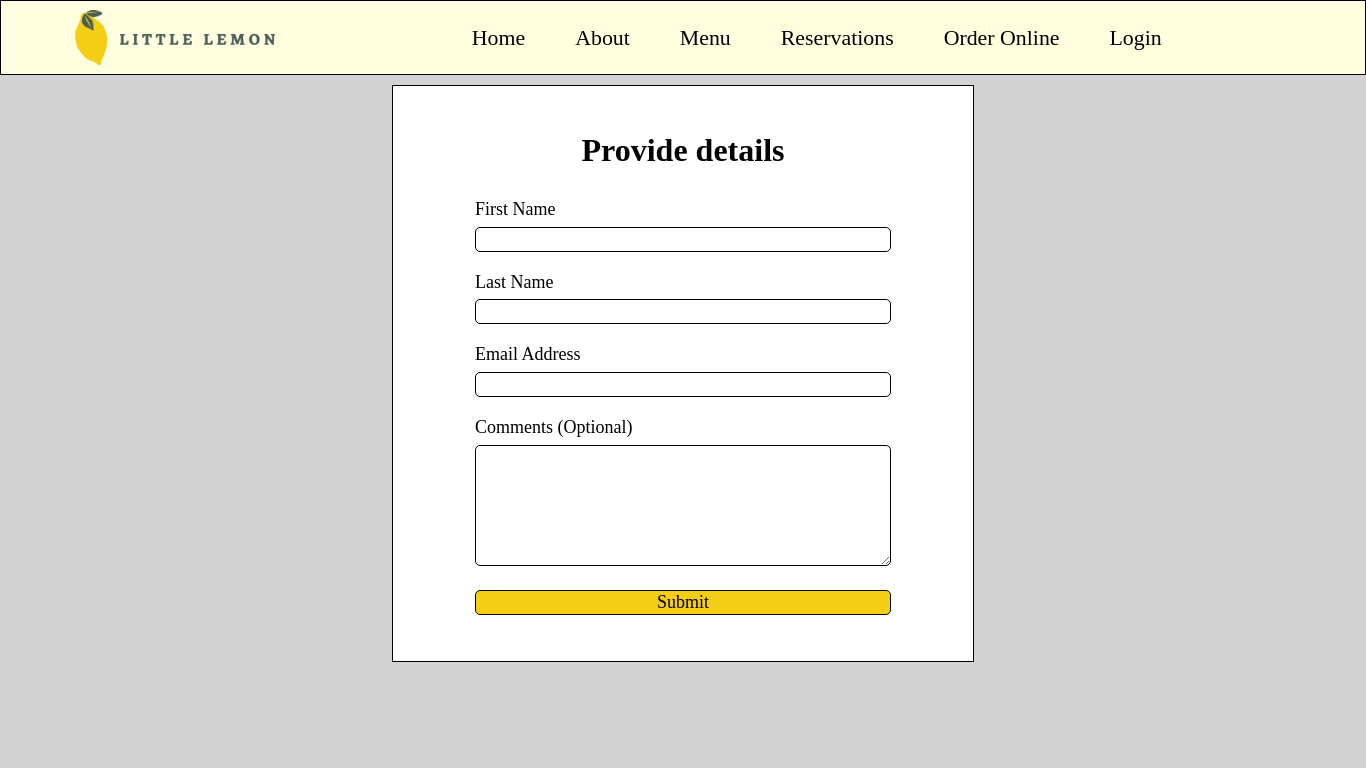
Scenario: Form Submission › Form cannot be submitted if the first name is not provided
The width and height of the screenshot is (1366, 768).
// Leave the first name field empty and fill in other fields
In the field labelled "Last Name": {"x": 683, "y": 312} [475,299,891,324], type "Henry"
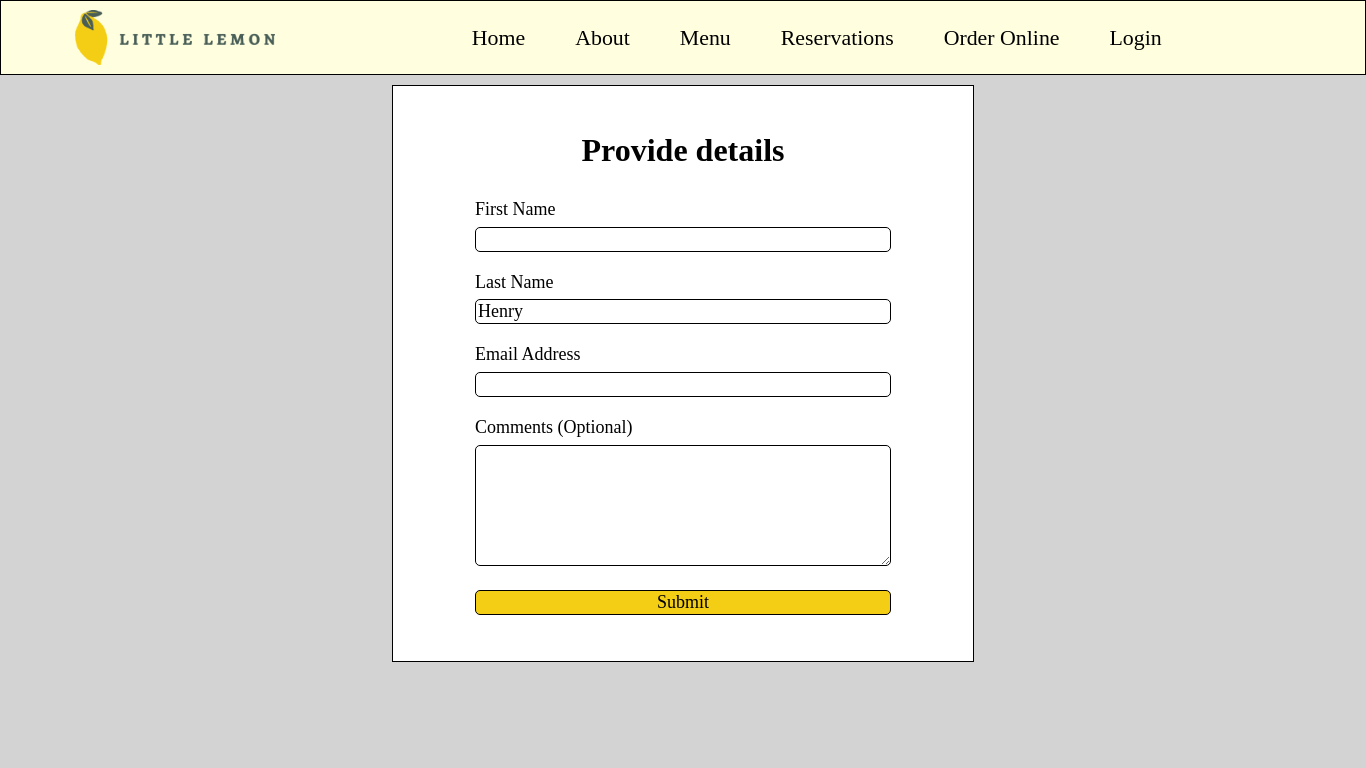
In the field labelled "Email Address": {"x": 683, "y": 385} [475,372,891,397], type "john_henry@gmail.com"
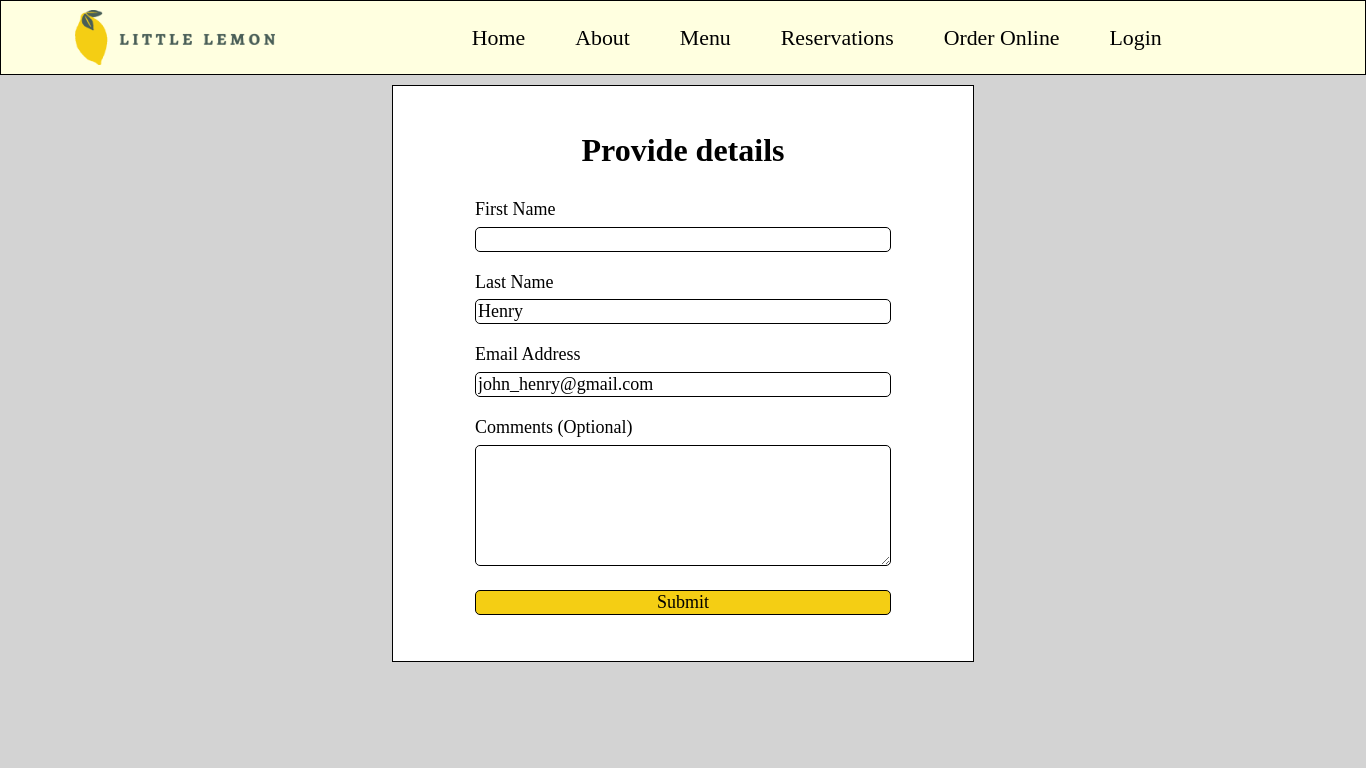
In the text box labelled "Comments (Optional)": {"x": 683, "y": 506} [475,445,891,566], type "This is a comment"
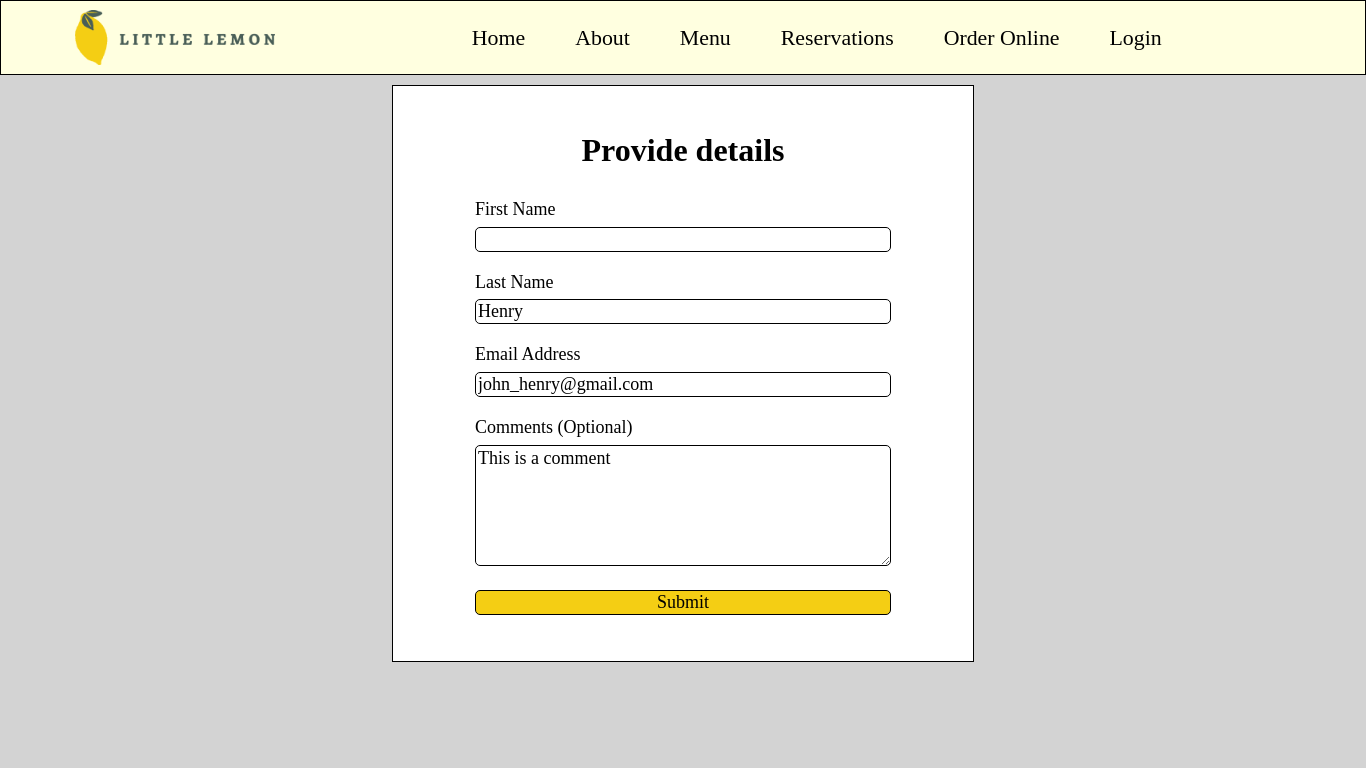
// Attempt to submit the form
Click the button "Submit": {"x": 683, "y": 603} [475,590,891,615]
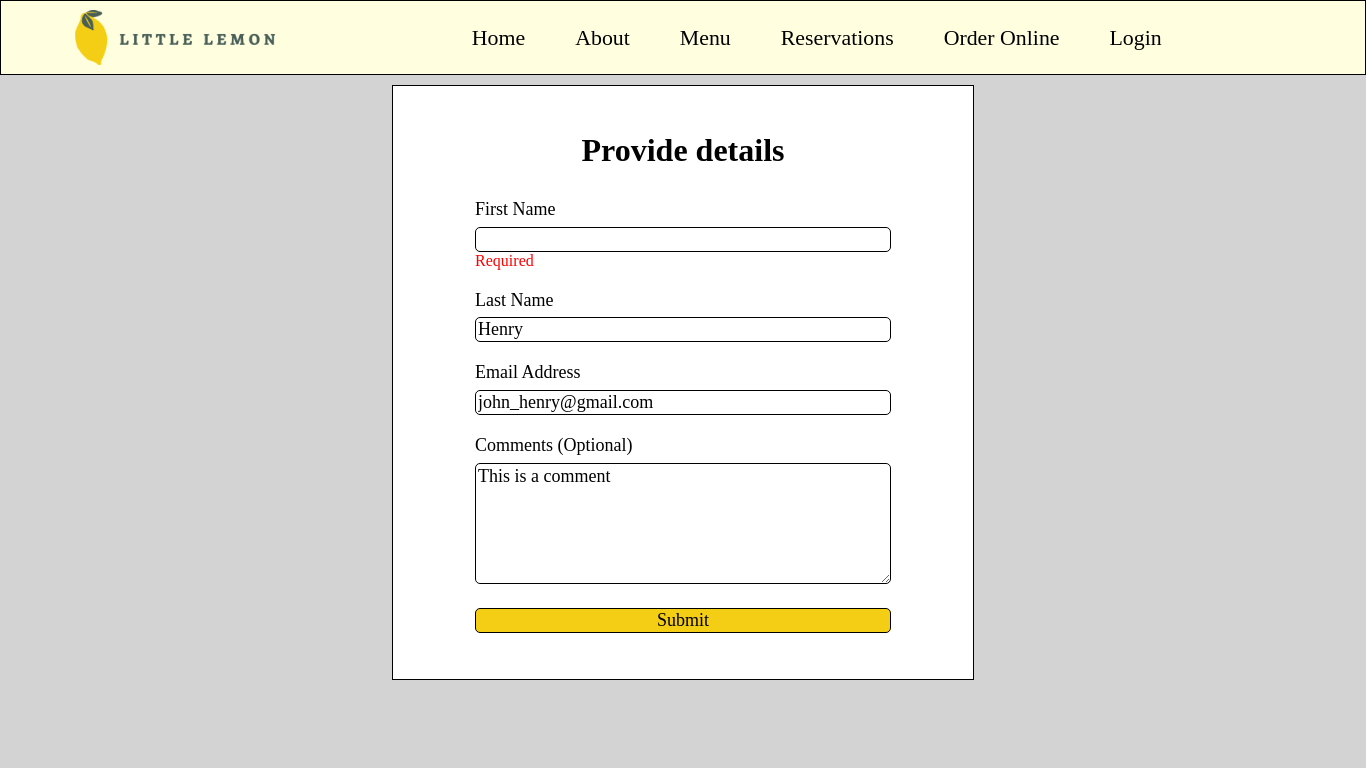
Check: the text "Required" is shown, box [475,252,534,269]
